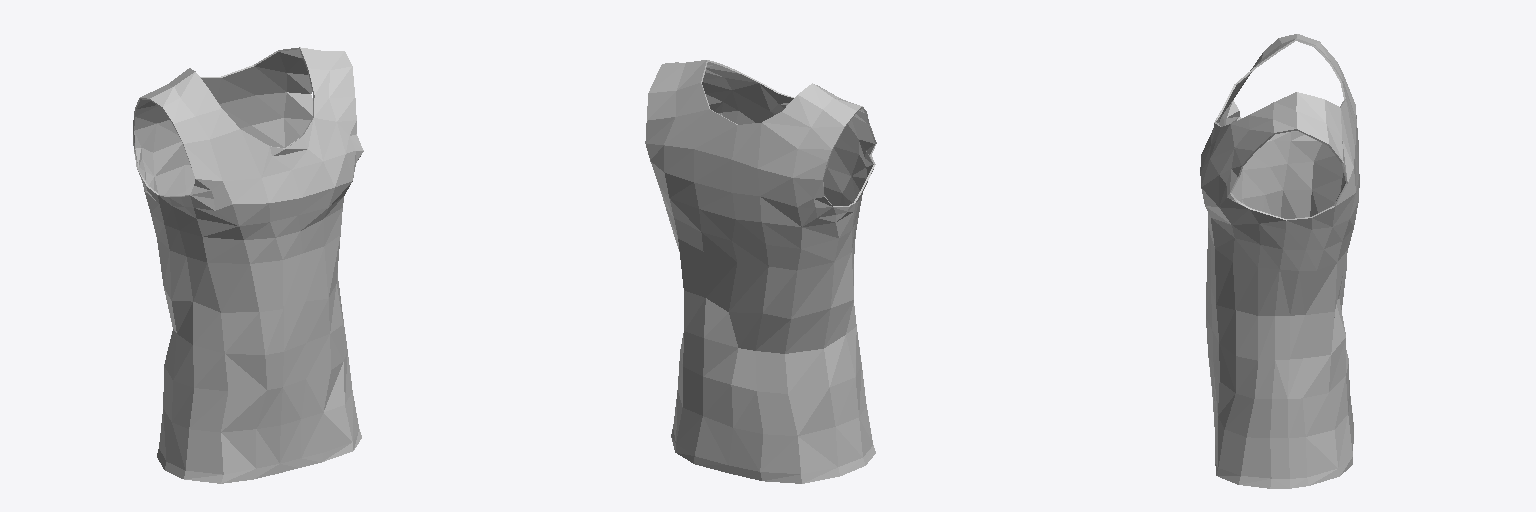
The model's file is Tanktop.obj.
3 renders of one model, left to right at view 1: azimuth 30°, elevation 25°; view 2: azimuth 150°, elevation 25°; view 3: azimuth 270°, elevation 25°, orthographic.
Visible parts, largest first — view 1: shirt_lp; view 2: shirt_lp; view 3: shirt_lp.
Part boxes in pixels (bbox=[...]): shirt_lp: bbox=[133, 47, 363, 483]; shirt_lp: bbox=[645, 60, 876, 483]; shirt_lp: bbox=[1200, 34, 1359, 488].
Bounding box in the file's own units: 498 × 933 × 352.